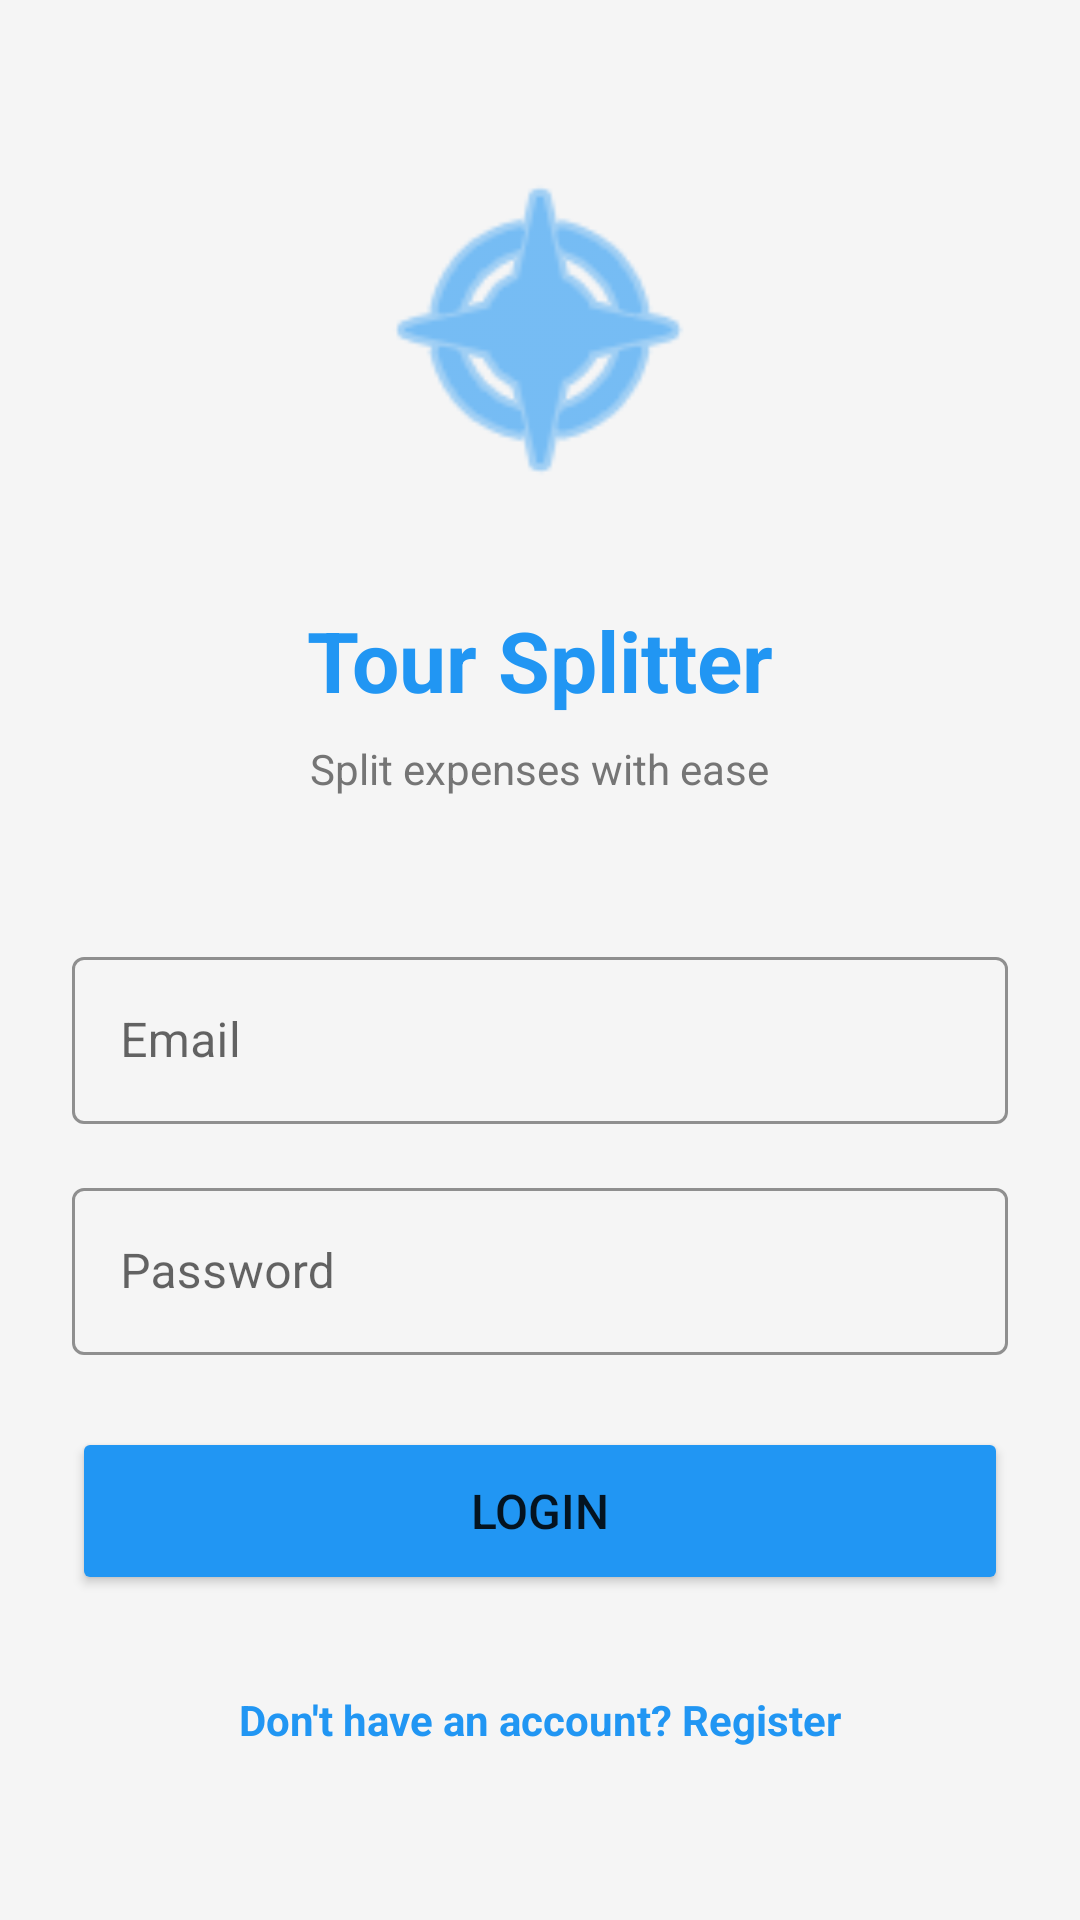

Screen size 1080*1920. Icon name, then its center in pixels as (x=x, y=y):
compass: (x=539, y=330)
